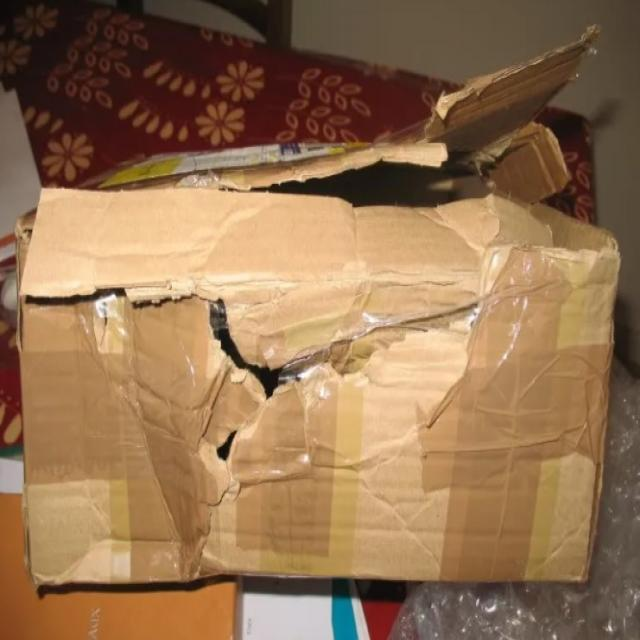damaged: (183, 292, 295, 466)
